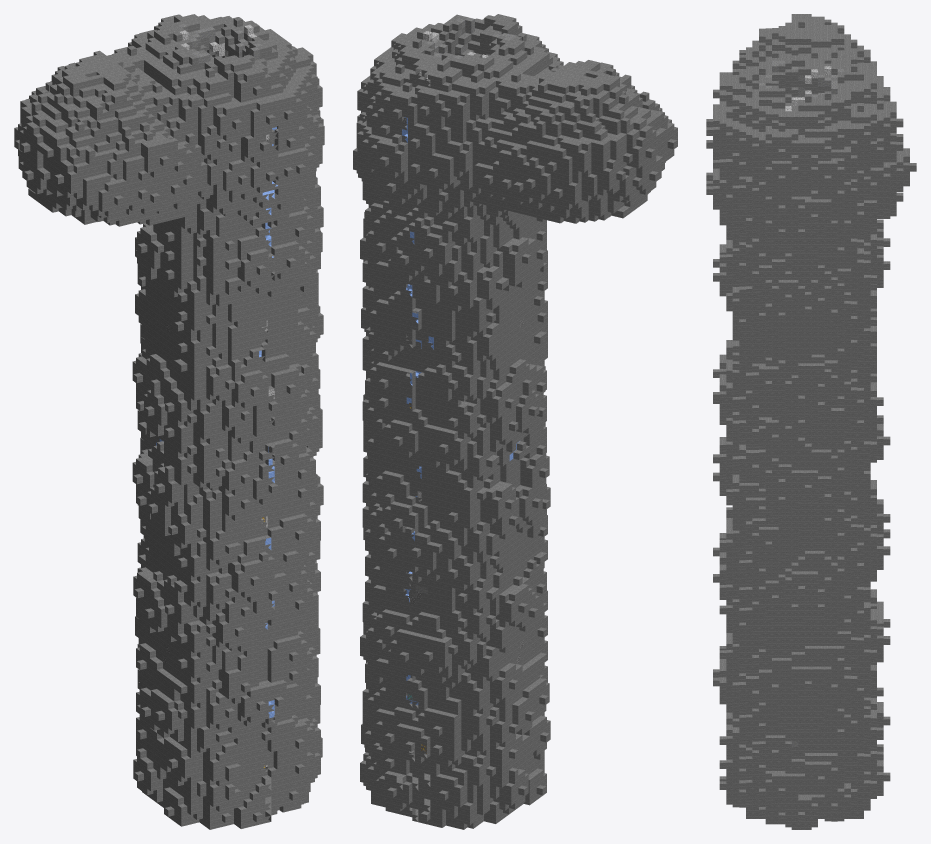
Rendered from minecraft.obj.
The picture shows the model from 3 angles, left to right: view 1: azimuth 30°, elevation 25°; view 2: azimuth 150°, elevation 25°; view 3: azimuth 270°, elevation 25°; orthographic projection. The views are drawn at different scales.
Bounding box in the file's own units: 480 × 1200 × 320.
